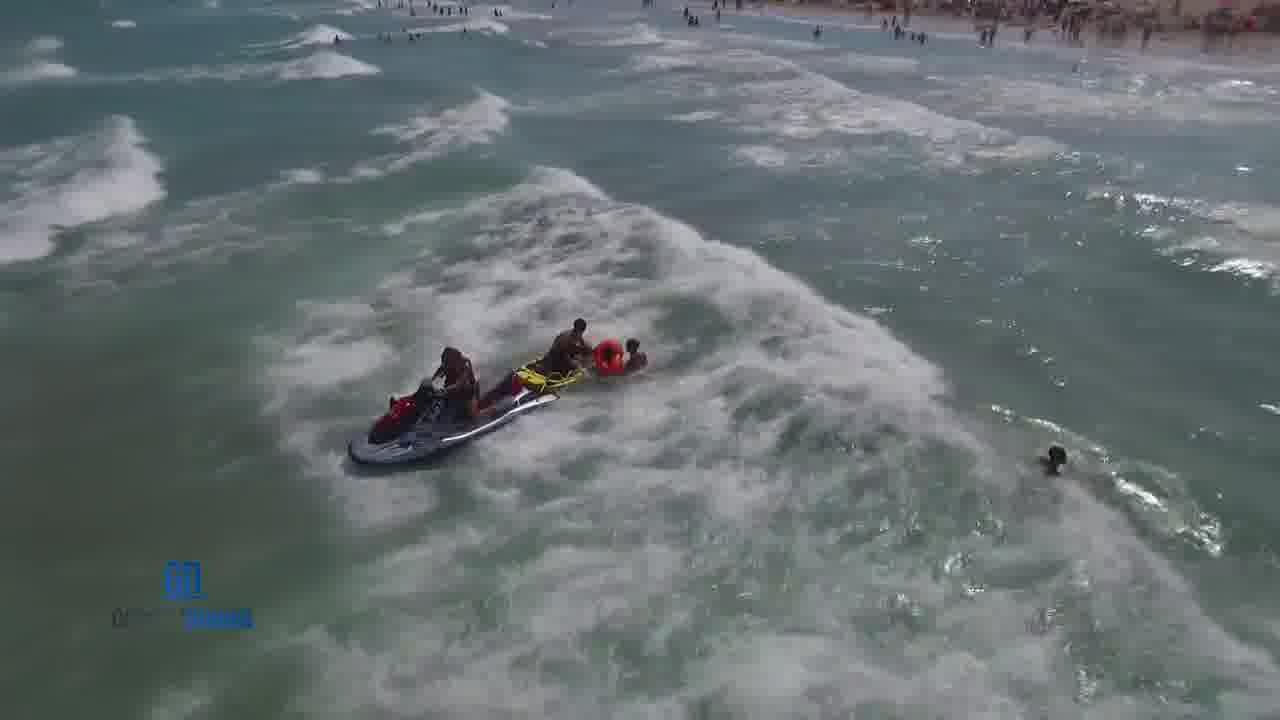swimmer: (1028, 434, 1091, 490), (619, 328, 678, 387), (555, 299, 585, 366), (593, 332, 618, 380)
